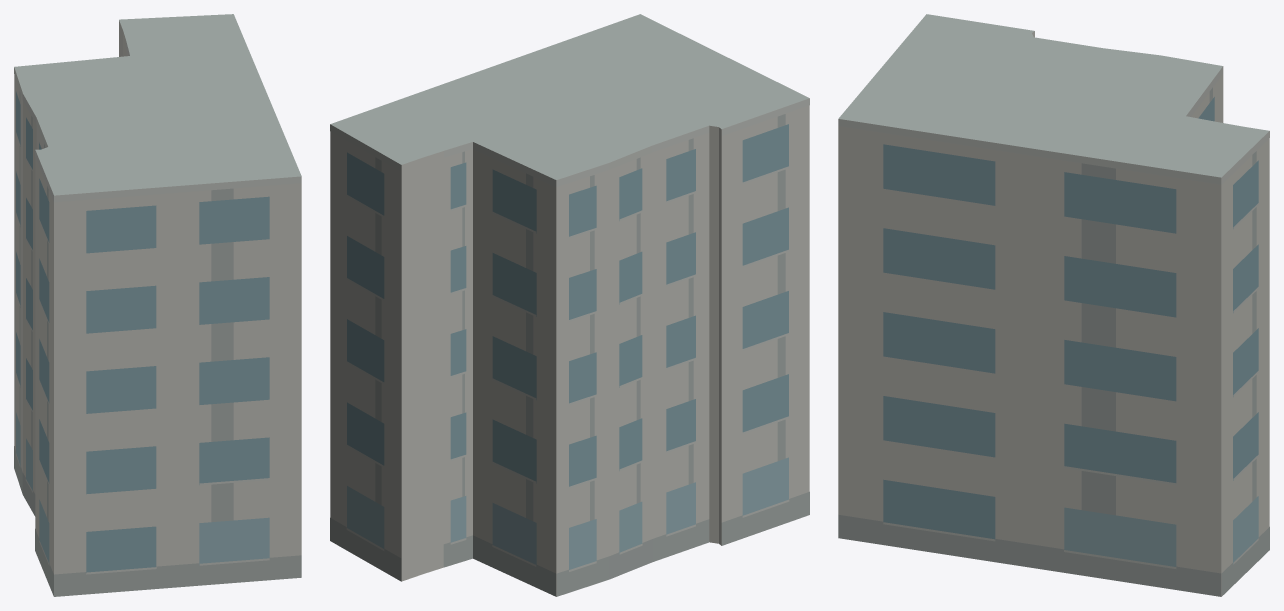
The model's file is survey-upis-32887497.glb.
3 renders of one model, left to right at view 1: azimuth 30°, elevation 25°; view 2: azimuth 150°, elevation 25°; view 3: azimuth 270°, elevation 25°, orthographic. The views are drawn at different scales.
Parts seen in each view (by area): view 1: survey-upis-32887497.tmp; view 2: survey-upis-32887497.tmp; view 3: survey-upis-32887497.tmp.
Boxes of the visible parts, x1,y1,x2,y2 form: survey-upis-32887497.tmp: (14, 14, 301, 596); survey-upis-32887497.tmp: (330, 14, 809, 596); survey-upis-32887497.tmp: (838, 14, 1269, 596).
Bounding box in the file's own units: 11.97 × 14.3 × 13.35.
